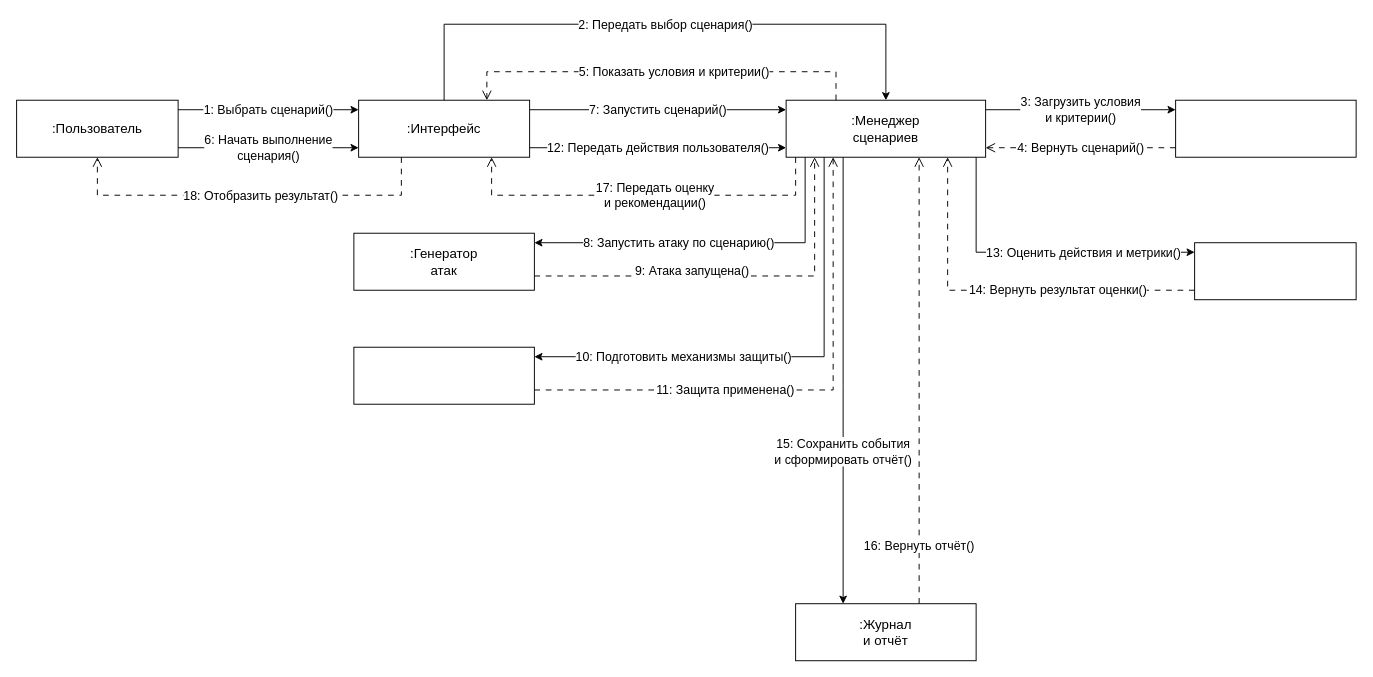
Image size: 1373x677. Some labels were removed from this diagram. Each missing label, with the centre of its shape:
:Модуль защиты: [443,375]
:Оценщик результатов: [1275,271]
:Хранилище данных: [1265,128]
